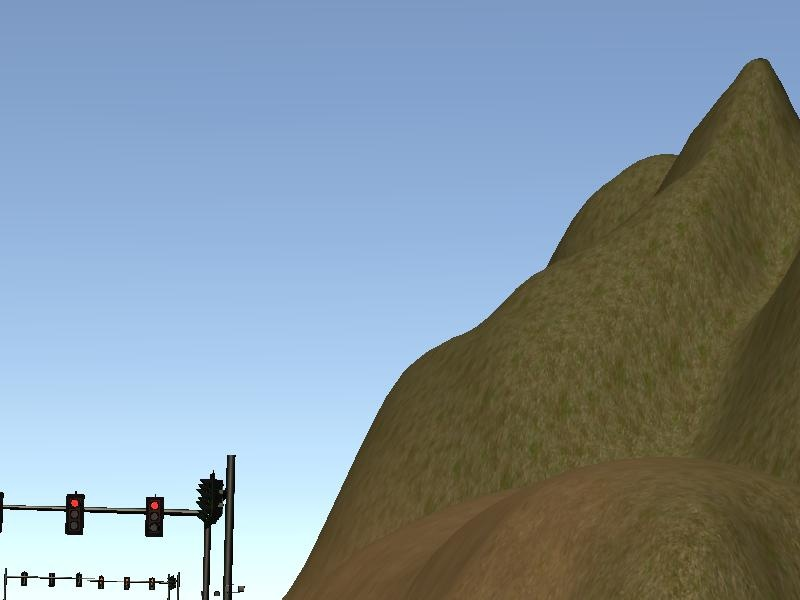red: (143, 494, 167, 540), (65, 491, 83, 534)
